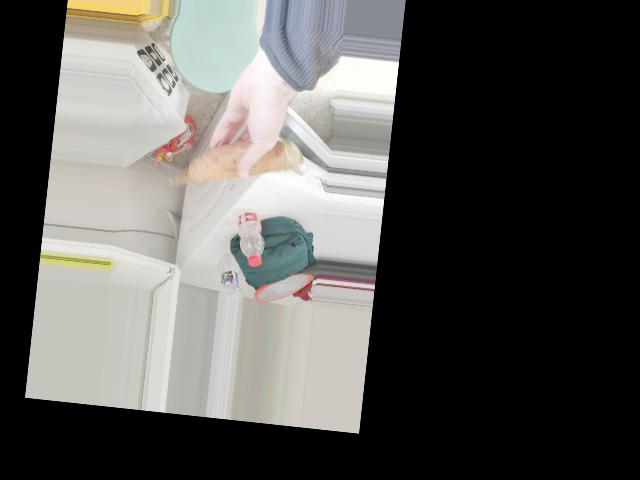sweet_potato: (172, 124, 296, 203)
